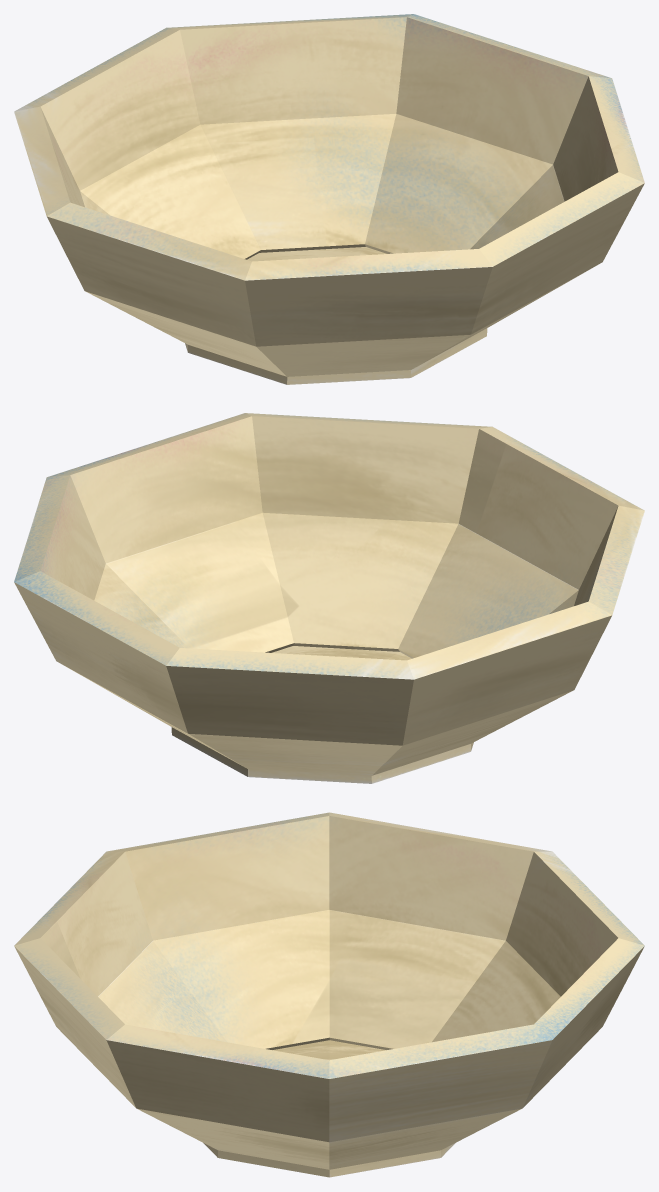
Rendered from PLATO .fbx.
The picture shows the model from 3 angles, top to bottom: view 1: azimuth 30°, elevation 25°; view 2: azimuth 150°, elevation 25°; view 3: azimuth 270°, elevation 25°; orthographic projection. The views are drawn at different scales.
Visible parts, largest first — view 1: Sphere.001; view 2: Sphere.001; view 3: Sphere.001.
Part boxes in pixels (<box>): Sphere.001: <box>14,14,644,384</box>; Sphere.001: <box>14,413,644,783</box>; Sphere.001: <box>14,812,644,1177</box>.
Size of the model in its own units: 36.4 by 11 by 36.4.
